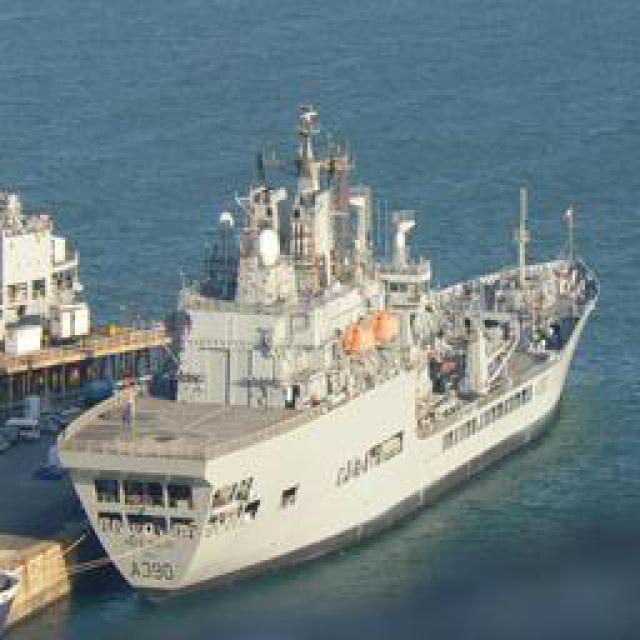Ship: (37, 106, 597, 616)
